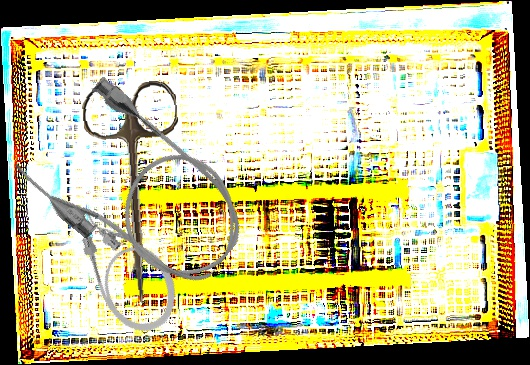Cannula: (7, 68, 266, 315), (65, 191, 190, 345)
Iris Scissors: (80, 79, 194, 307)
